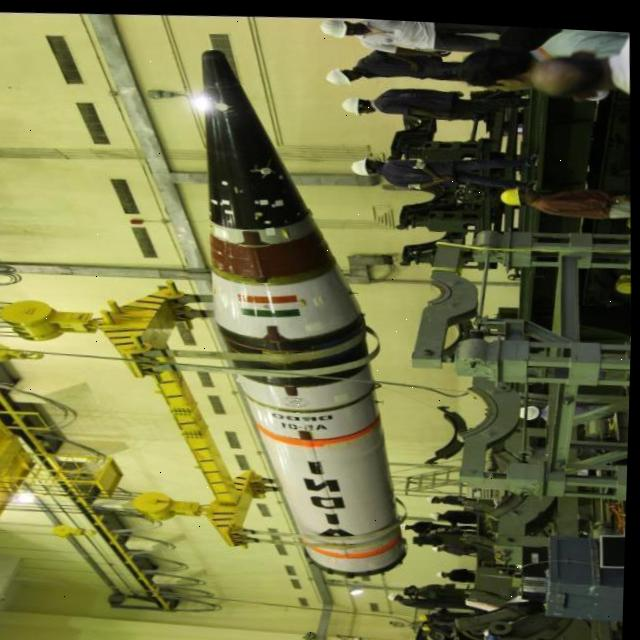missile: (184, 34, 425, 580)
